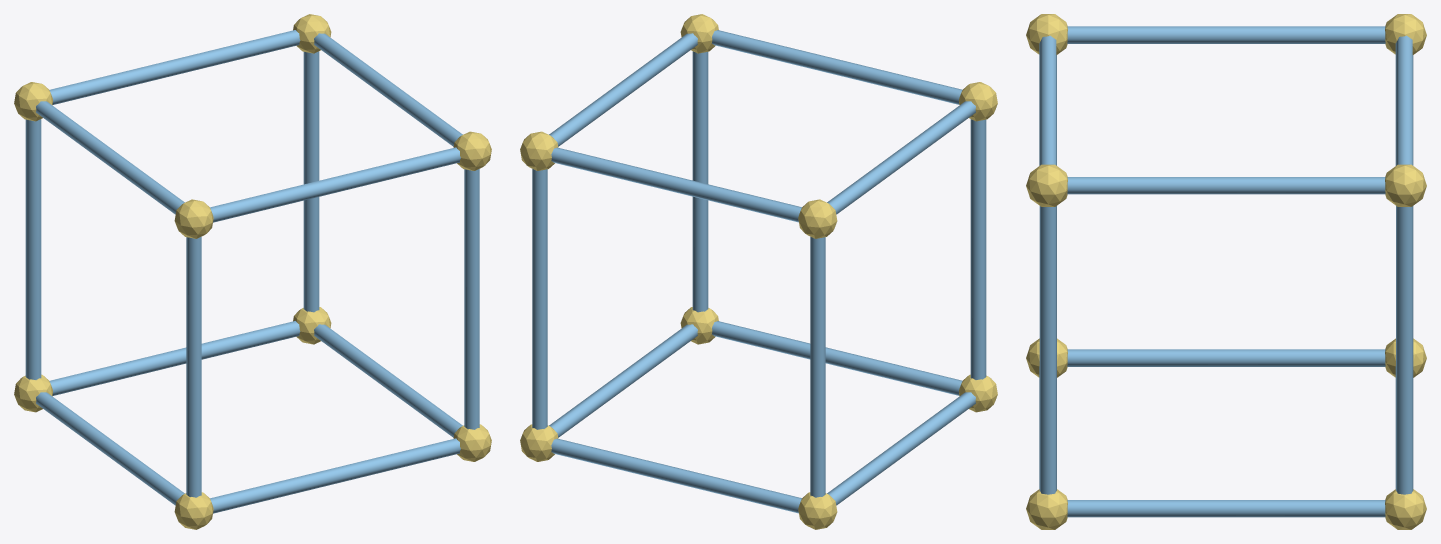
3 views of the same model, side by side, from view 1: azimuth 30°, elevation 25°; view 2: azimuth 150°, elevation 25°; view 3: azimuth 270°, elevation 25° (orthographic). The views are drawn at different scales.
Parts seen in each view (by area): view 1: Cube.001; view 2: Cube.001; view 3: Cube.001.
Part boxes in pixels (left/top/right/bottom): Cube.001: left=14, top=14, right=491, bottom=529; Cube.001: left=520, top=14, right=997, bottom=529; Cube.001: left=1026, top=14, right=1426, bottom=529.
Bounding box in the file's own units: 224 × 225 × 225.
